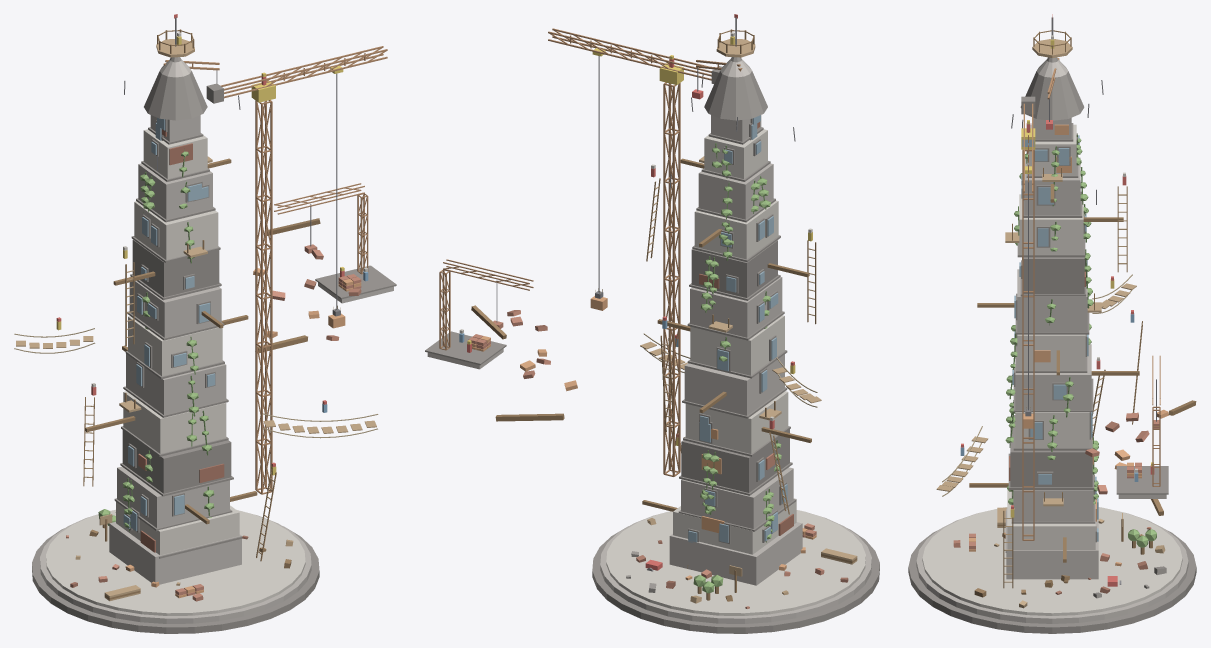
The model's file is ClaudeParkourTower.glb.
3 views of the same model, side by side, from view 1: azimuth 30°, elevation 25°; view 2: azimuth 150°, elevation 25°; view 3: azimuth 270°, elevation 25° (orthographic).
Visible parts, largest first — view 1: Plinth_Top, Tier_00, Plinth_Lower, Tier_04, Tier_03, Tier_05, Plinth_Upper, Tier_06, Tier_02, Tier_07, Tier_08, Tier_09 (+10 smaller); view 2: Plinth_Top, Tier_00, Plinth_Lower, Tier_05, Tier_02, Tier_03, Plinth_Upper, Tier_04, Tier_06, Tier_07, Tier_10, Tier_08 (+10 smaller); view 3: Plinth_Top, Plinth_Lower, Plinth_Upper, Tier_03, Tier_00, Tier_05, Tier_07, Tier_01, Tier_02, Tier_06, Tier_08, Tier_04 (+10 smaller).
Boxes of the visible parts, x1,y1,x2,y2 form: Plinth_Top: (46, 509, 305, 615); Tier_00: (109, 522, 241, 584); Plinth_Lower: (32, 526, 319, 633); Tier_04: (123, 391, 226, 453); Tier_03: (122, 430, 231, 493); Tier_05: (126, 354, 226, 414); Plinth_Upper: (40, 514, 311, 623); Tier_06: (128, 316, 222, 376); Tier_02: (117, 466, 229, 528); Tier_07: (129, 280, 221, 337); Tier_08: (132, 239, 219, 297); Tier_09: (134, 201, 218, 259); Plinth_Top: (606, 510, 865, 615); Tier_00: (669, 522, 802, 585); Plinth_Lower: (592, 526, 879, 633); Tier_05: (684, 354, 784, 415); Tier_02: (681, 467, 793, 528); Tier_03: (681, 429, 789, 492); Plinth_Upper: (600, 511, 871, 623); Tier_04: (685, 391, 788, 453); Tier_06: (690, 315, 784, 375); Tier_07: (690, 277, 782, 337); Tier_10: (698, 163, 773, 219); Tier_08: (691, 240, 777, 297); Plinth_Top: (922, 507, 1182, 615); Plinth_Lower: (908, 530, 1196, 633); Plinth_Upper: (916, 513, 1188, 623); Tier_03: (1010, 423, 1092, 487); Tier_00: (1006, 508, 1098, 579); Tier_05: (1015, 344, 1091, 409); Tier_07: (1017, 269, 1087, 331); Tier_01: (1007, 489, 1095, 549); Tier_02: (1013, 490, 1093, 521); Tier_06: (1017, 334, 1085, 370); Tier_08: (1023, 257, 1084, 293); Tier_04: (1015, 412, 1089, 447).
Bounding box in the file's own units: 21.8 × 30.8 × 14.4.
